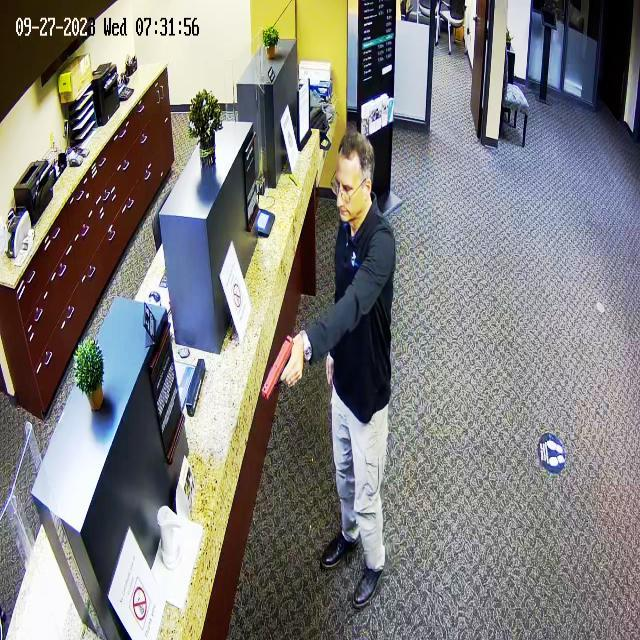Gun: (252, 325, 316, 405)
